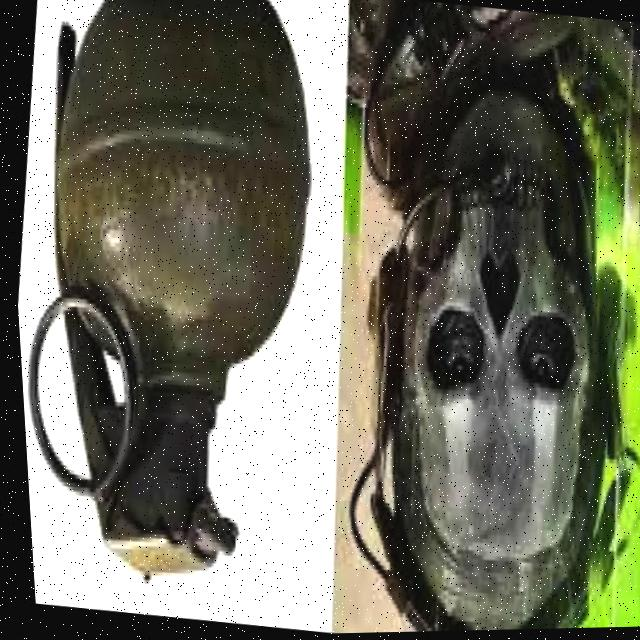grenade: (0, 0, 364, 584)
